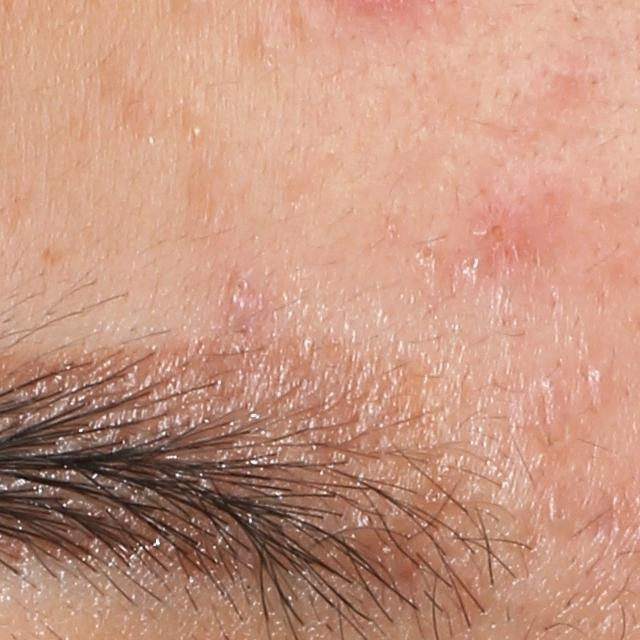comedo: (258, 30, 280, 50), (188, 124, 205, 143)
